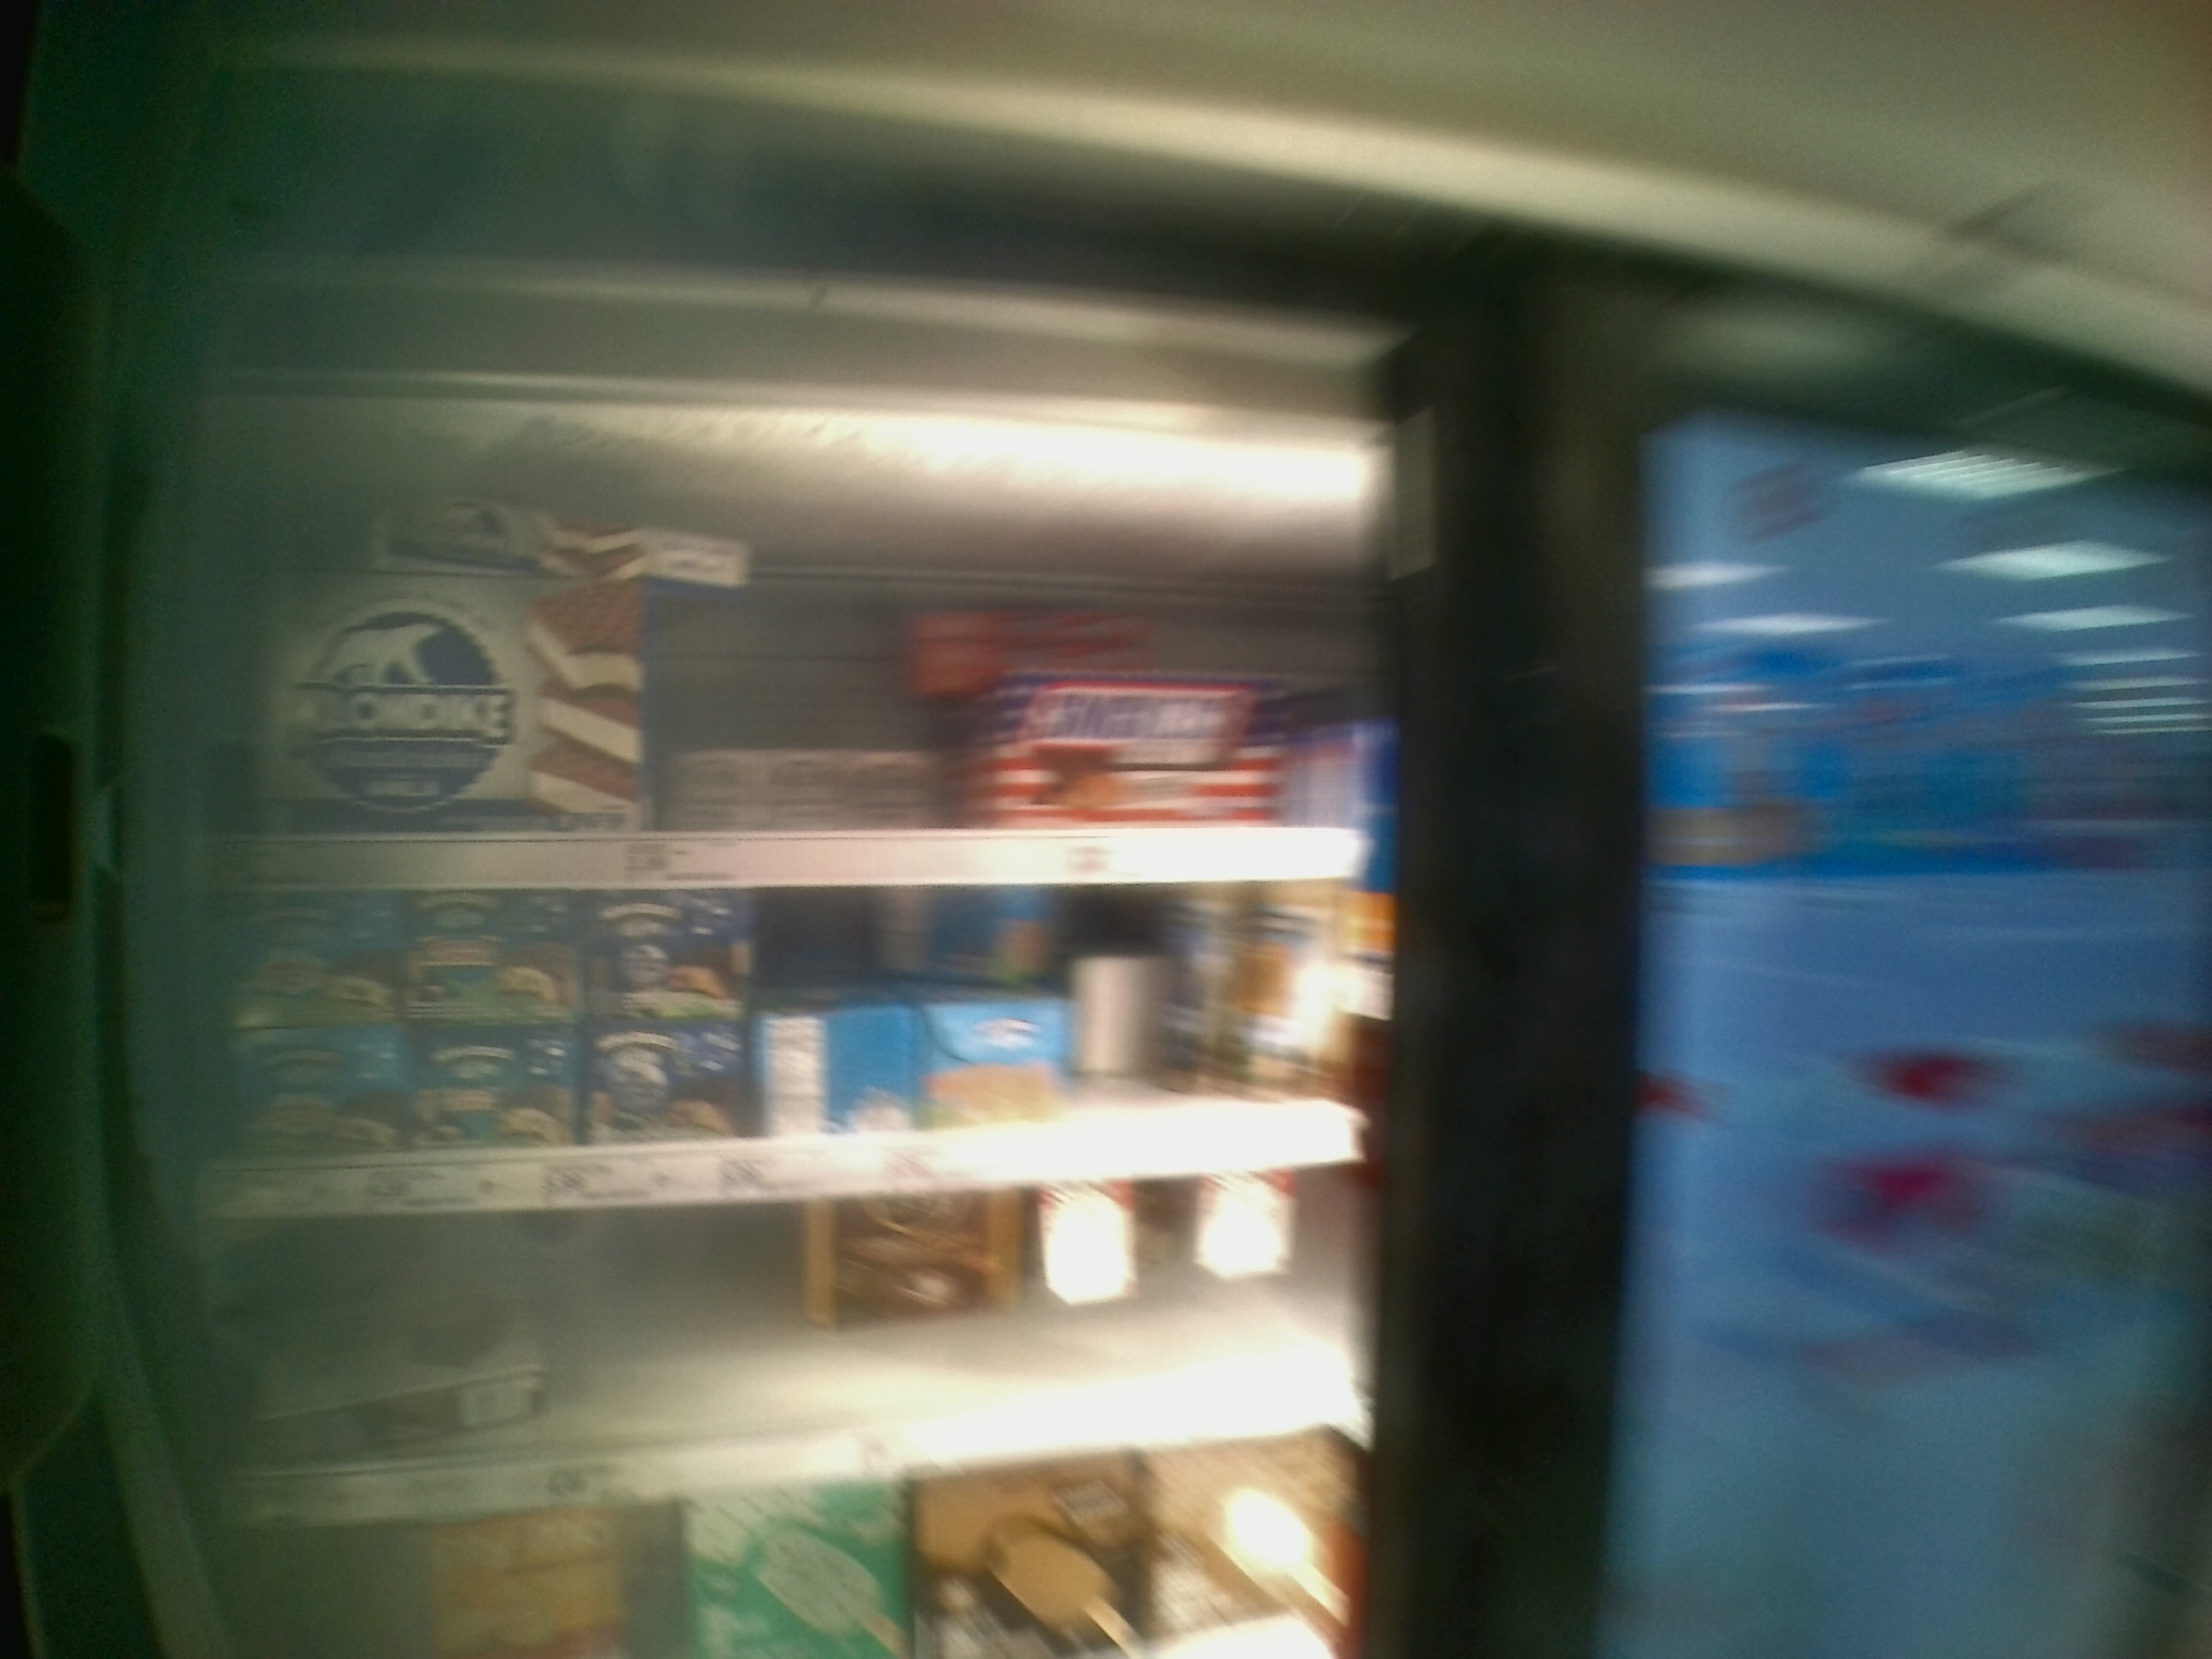shelf: (179, 403, 1393, 873), (183, 878, 1406, 1213)
